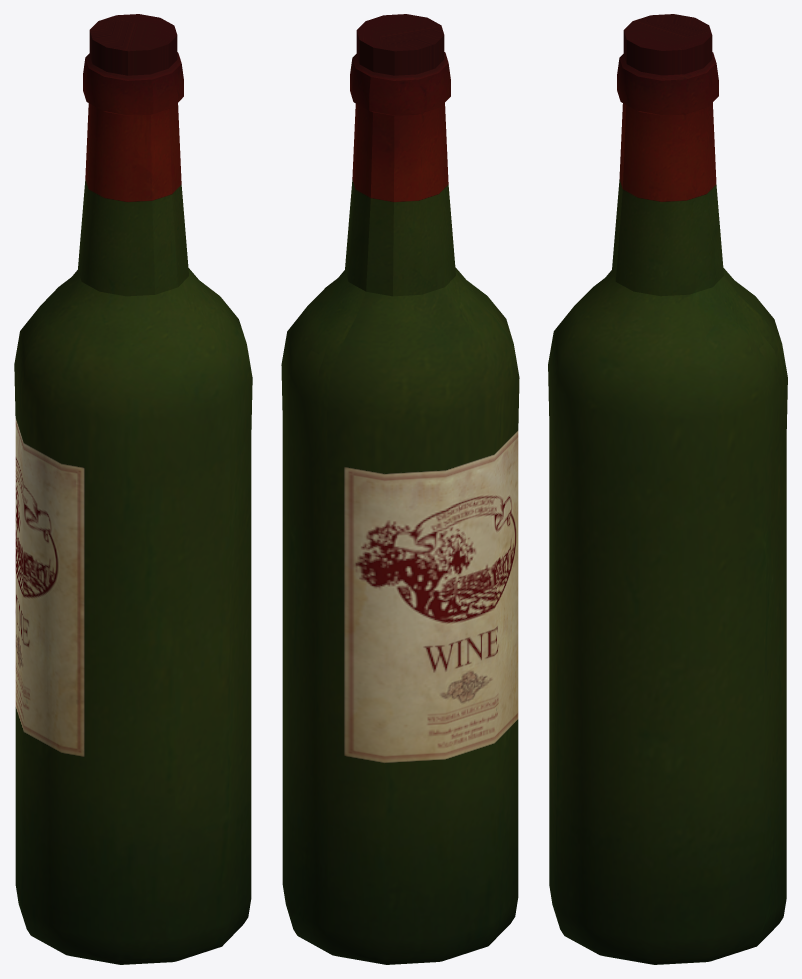
Rendered from Wine bottle.FBX.
3 views of the same model, side by side, from view 1: azimuth 30°, elevation 25°; view 2: azimuth 150°, elevation 25°; view 3: azimuth 270°, elevation 25° (orthographic).
Visible parts, largest first — view 1: wine bottle; view 2: wine bottle; view 3: wine bottle.
Boxes of the visible parts, x1=… form: wine bottle: x1=14, y1=14, x2=252, y2=964; wine bottle: x1=281, y1=14, x2=519, y2=964; wine bottle: x1=548, y1=14, x2=787, y2=964.
Bounding box in the file's own units: 6.59 × 27.21 × 6.65.
Materials: 1 (1 with a texture image).
